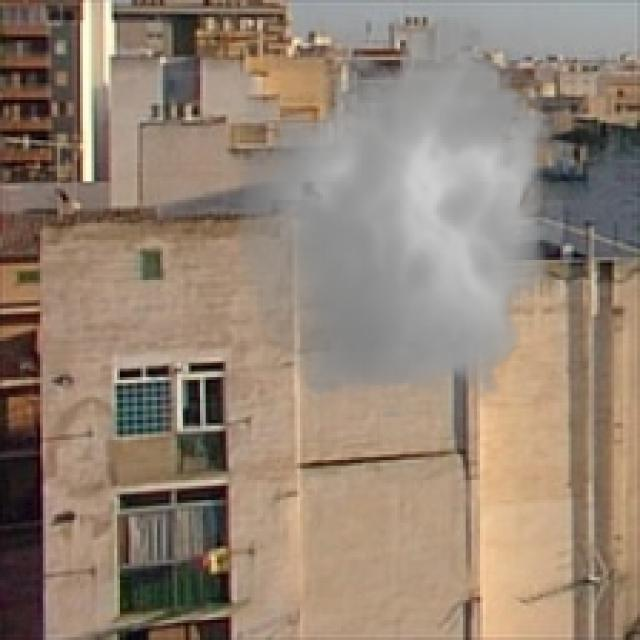smoke: (226, 3, 577, 417)
